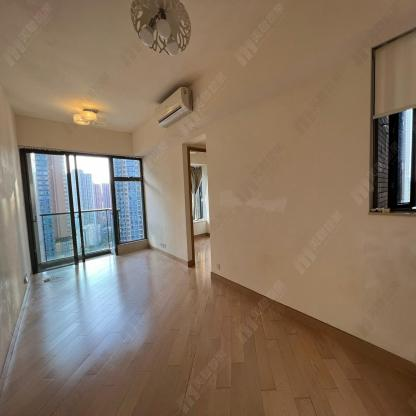AC: (154, 86, 193, 129)
